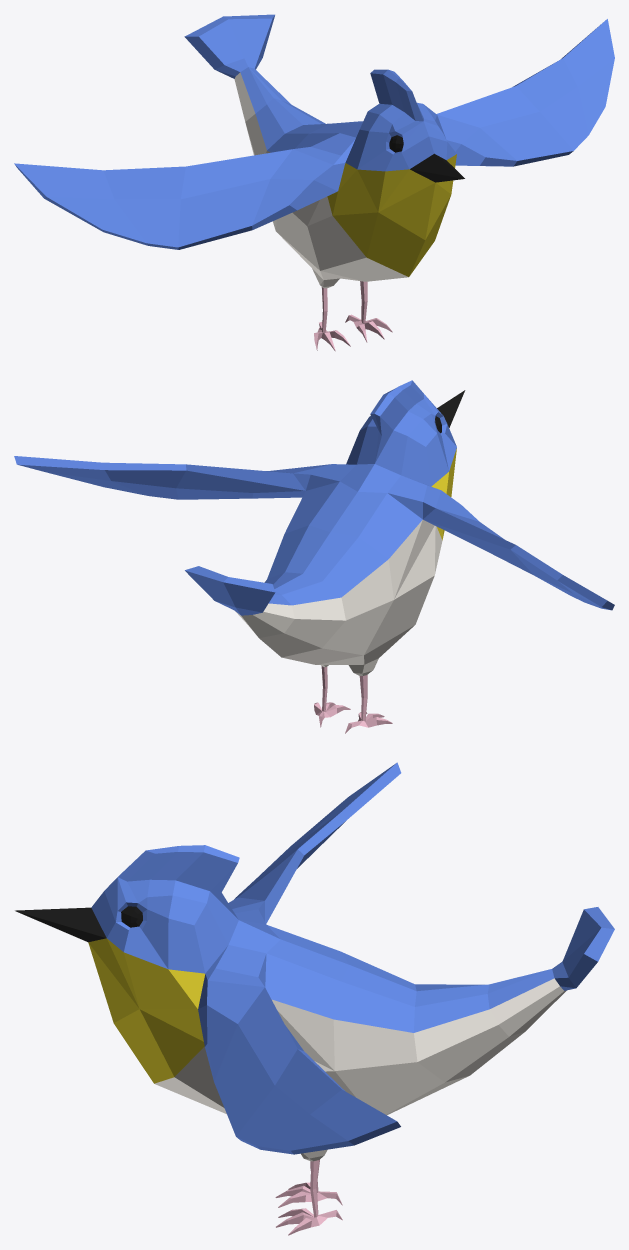
The model's file is lowpoly_origami_bird.glb.
3 views of the same model, one above another, from view 1: azimuth 30°, elevation 25°; view 2: azimuth 150°, elevation 25°; view 3: azimuth 270°, elevation 25° (orthographic). The views are drawn at different scales.
Parts seen in each view (by area): view 1: Cube.001; view 2: Cube.001; view 3: Cube.001.
Part boxes in pixels (x1,y1,x2,y2): Cube.001: (14, 14, 614, 351); Cube.001: (14, 380, 614, 733); Cube.001: (15, 762, 614, 1235).
Size of the model in its own units: 2.85 by 1.36 by 2.01.
